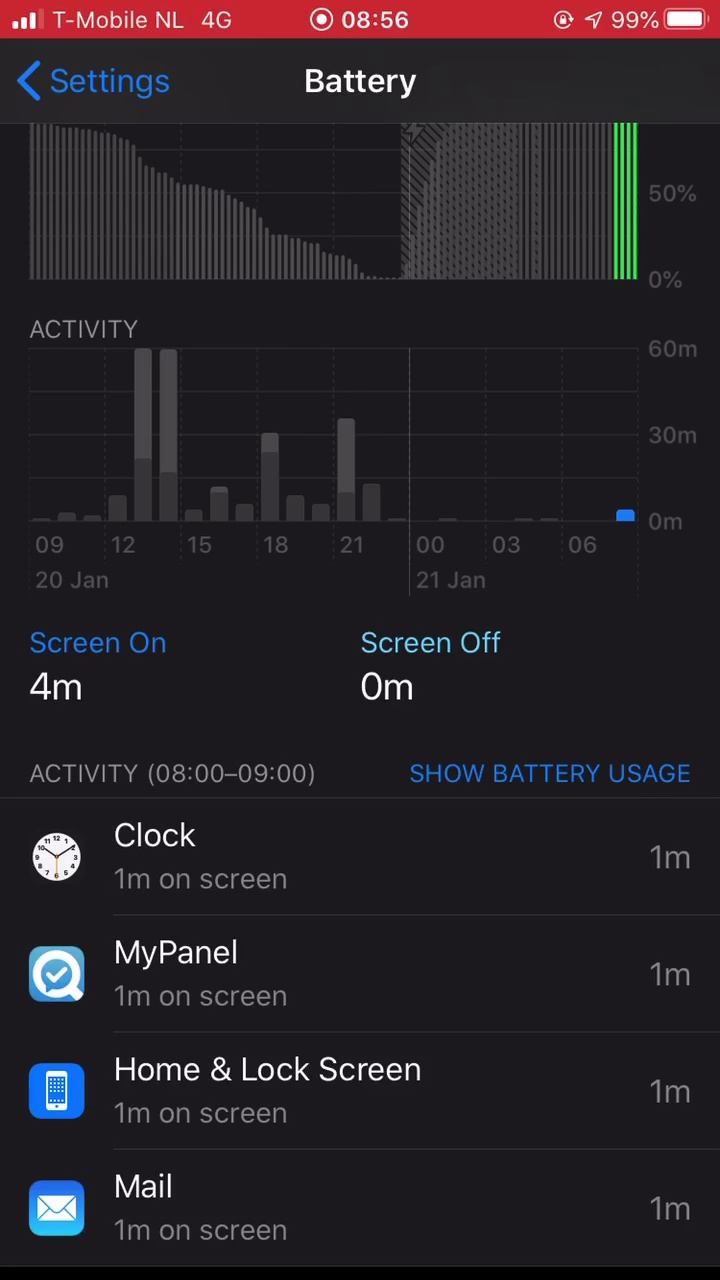activity: (21, 739, 334, 803)
app: (21, 811, 711, 914), (22, 926, 712, 1029), (20, 1041, 710, 1144), (21, 1158, 711, 1261)
